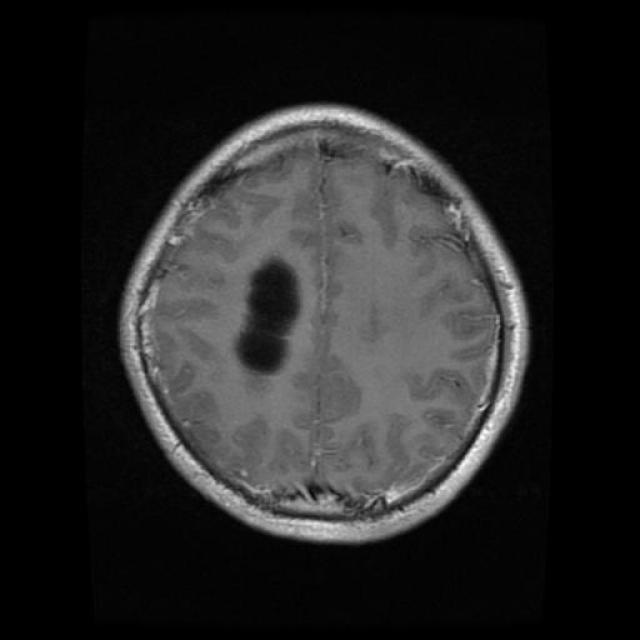Brain-Tumor: (228, 232, 310, 394)
